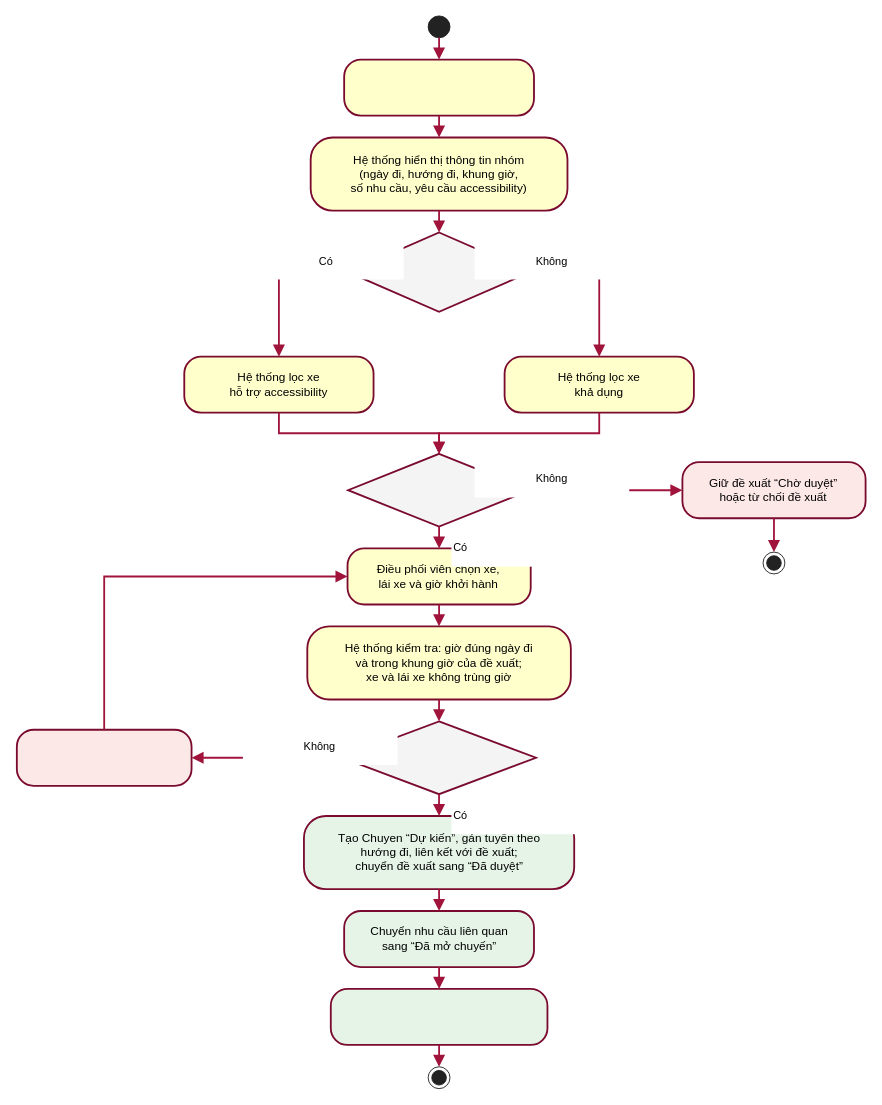
The diagram is 882 pixels wide and 1105 high, and some of its shapes have lost their labels. The shapes that lost their labels are listed below. From the top down, each one's centre as x and y in pixels, then its label:
At (x=438, y=87): "Điều phối viên chọn đề xuất chuyến chờ duyệt".
At (x=439, y=271): "Có nhu cầu accessibility?".
At (x=439, y=489): "Có xe phù hợp?".
At (x=103, y=757): "Thông báo lỗi, yêu cầu chọn lại".
At (x=438, y=757): "Thông tin hợp lệ?".
At (x=438, y=1016): "Gửi thông báo cho hành khách để đặt ghế (UC06)".
